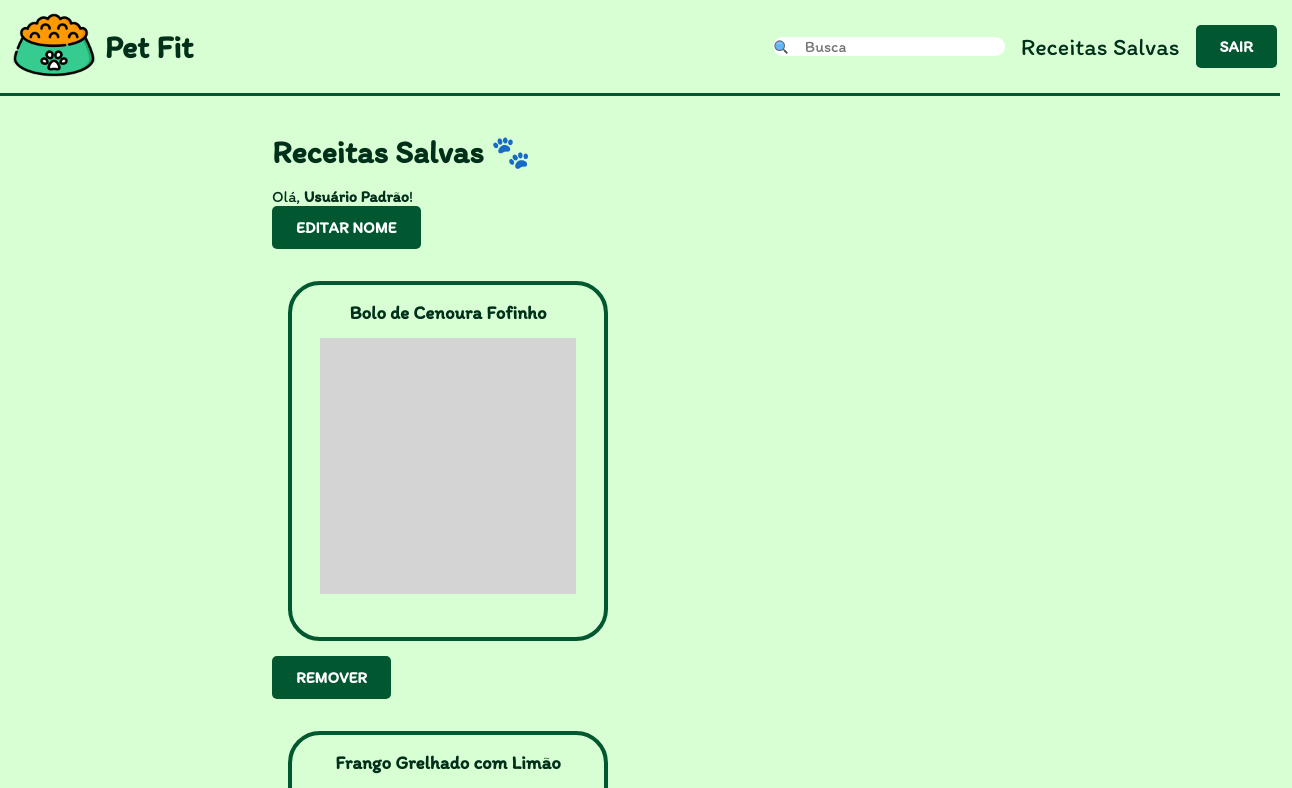
Página: SavedRecipes › deve exibir uma mensagem de estado vazio quando não houver receitas
Click the button "Remover".
click(331, 677)  # box [272,656,391,698]
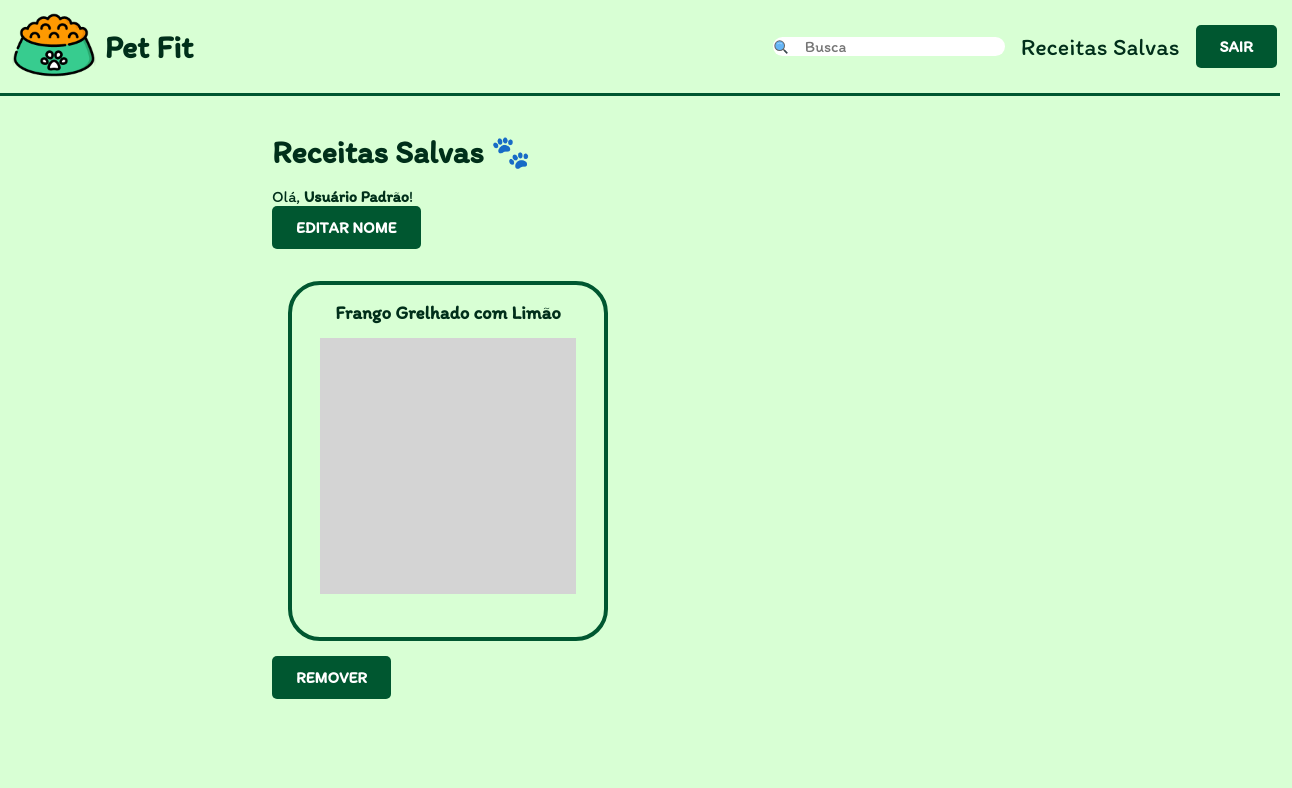
Click the button "Remover".
click(331, 677)  # box [272,656,391,698]
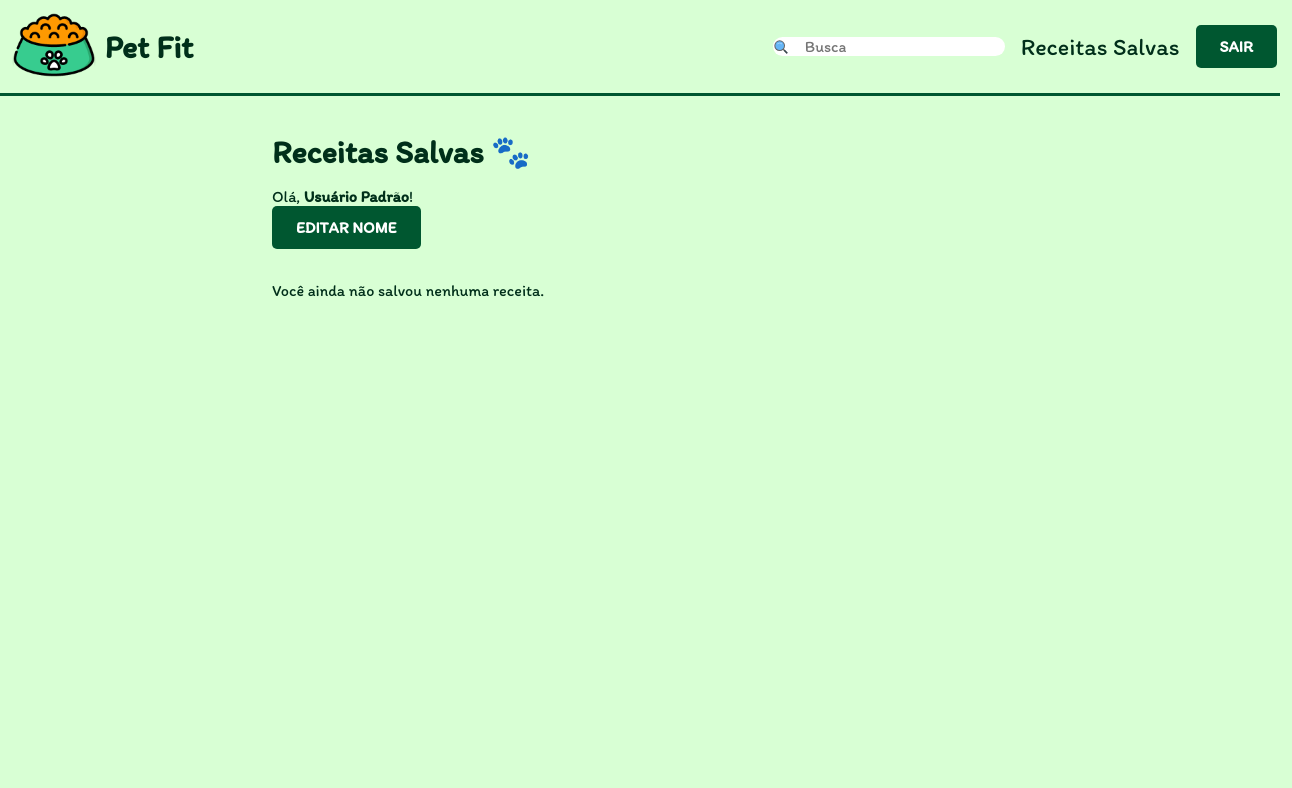
Now the text "Você ainda não salvou nenhuma receita." is shown, box [272,281,544,300]
